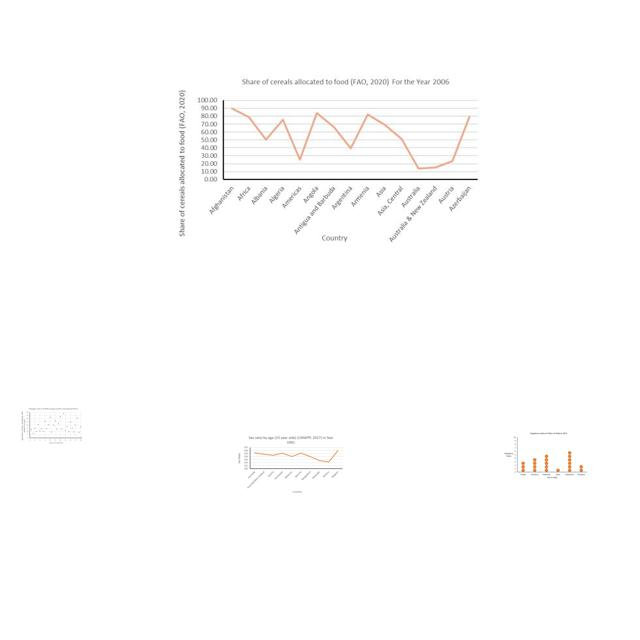Graph: (168, 70, 491, 253), (237, 433, 345, 494), (502, 431, 588, 481), (20, 407, 84, 445)
